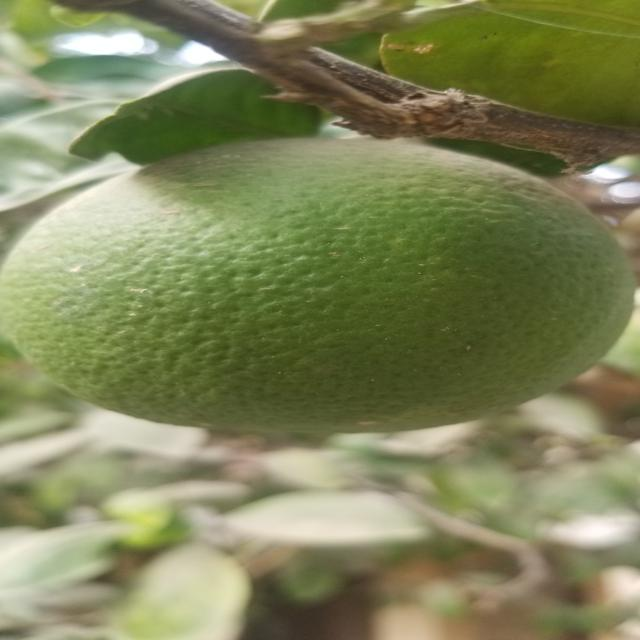Unripe: (6, 141, 640, 431)
